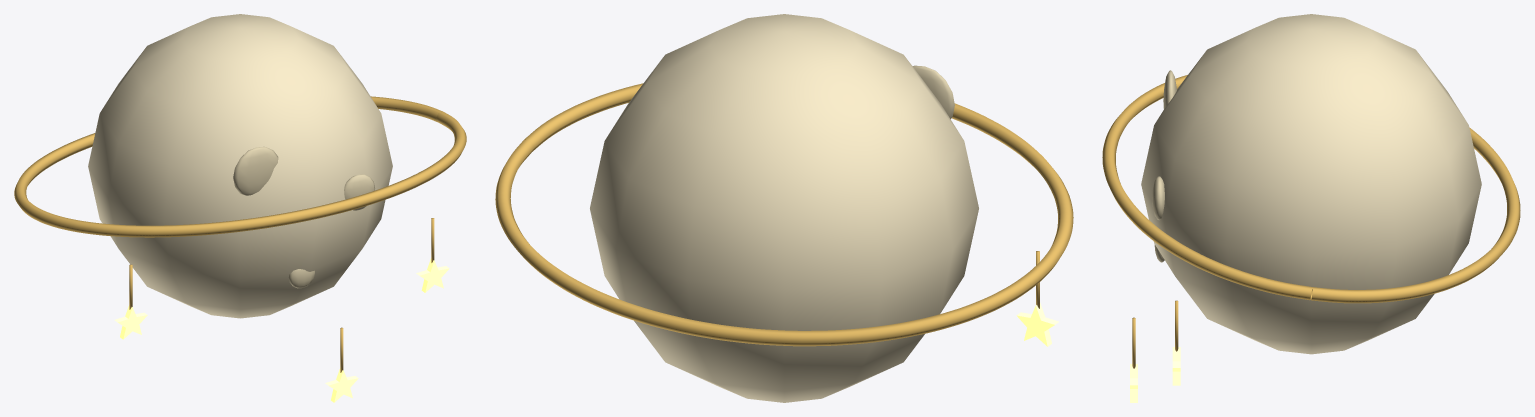
Rendered from fairytale-environment.glb.
3 views of the same model, side by side, from view 1: azimuth 30°, elevation 25°; view 2: azimuth 150°, elevation 25°; view 3: azimuth 270°, elevation 25° (orthographic). The views are drawn at different scales.
Parts seen in each view (by area): view 1: orbit-front; view 2: orbit-front; view 3: orbit-front.
Boxes of the visible parts, x1=… form: orbit-front: x1=14, y1=14, x2=466, y2=402; orbit-front: x1=495, y1=14, x2=1073, y2=402; orbit-front: x1=1102, y1=14, x2=1520, y2=402.
Size of the model in its own units: 7.49 by 5.53 by 5.89.
